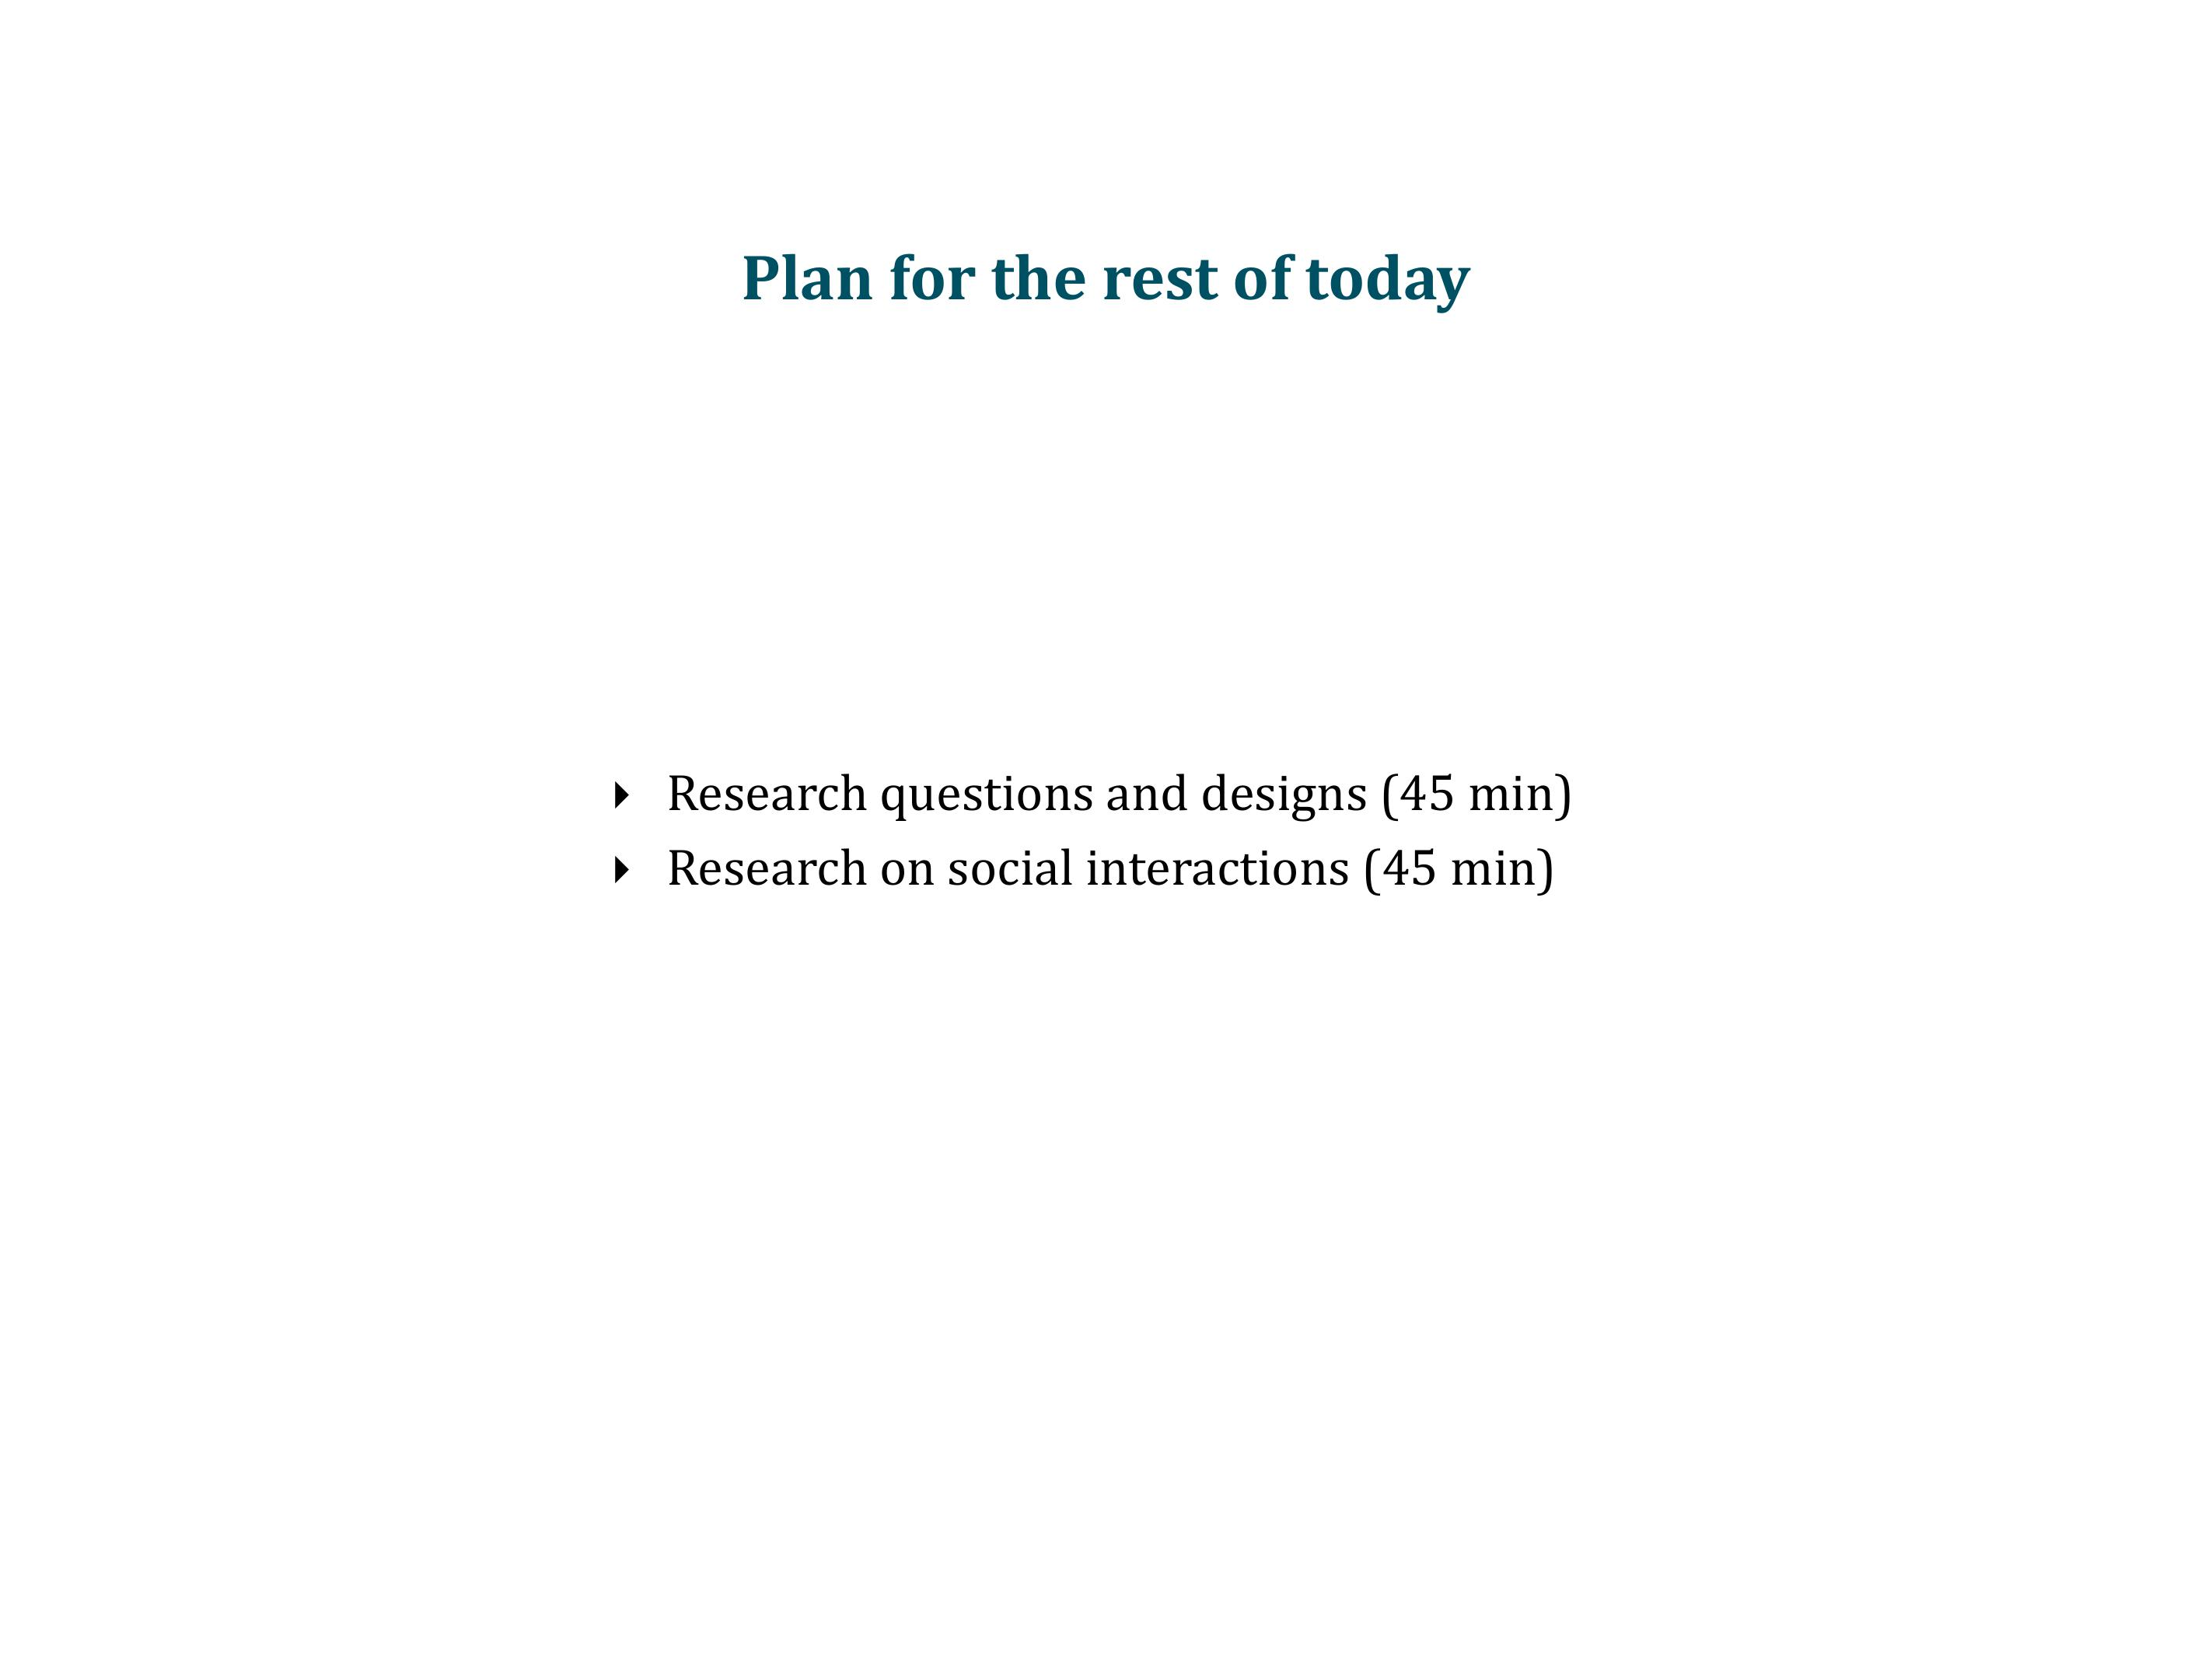Title: (736, 242, 1494, 328)
